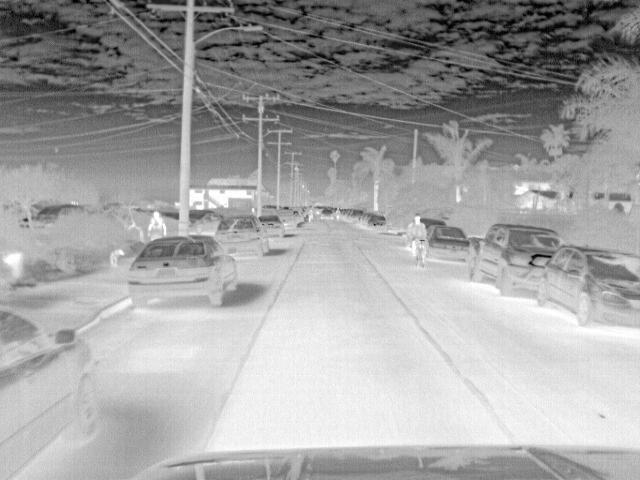car: (3, 310, 110, 478), (529, 245, 640, 332), (126, 236, 241, 308), (469, 222, 565, 296), (218, 214, 273, 258), (422, 225, 481, 263), (259, 215, 286, 237), (362, 212, 390, 233), (274, 208, 298, 228), (349, 209, 365, 223), (319, 207, 335, 221)
dog: (107, 248, 126, 270)
person: (141, 207, 167, 247), (410, 213, 427, 257), (308, 207, 317, 222), (334, 207, 343, 221)
